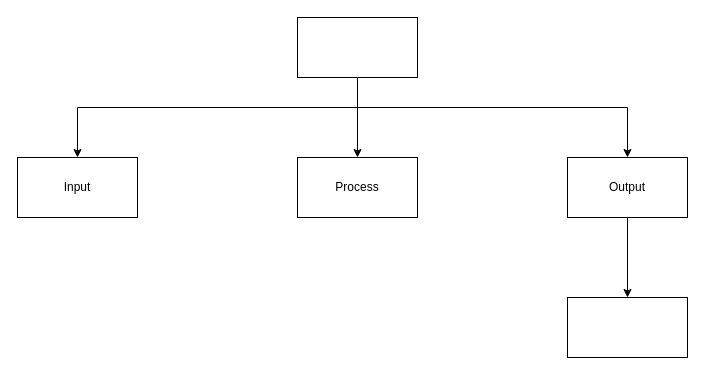
Some shapes in this 705 by 375 pixel diagram are drawn without their labels. The shapes that lost their labels are listed below. From the top down, each one's centre as x and y in pixels, then its label:
At [357,47]: "RGB Program".
At [627,327]: "Show every RGB value".
